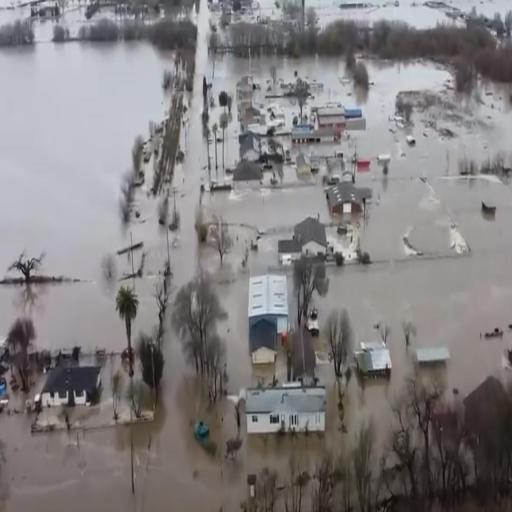flood: (0, 1, 512, 510), (393, 177, 512, 395), (238, 365, 403, 500), (306, 0, 512, 27), (464, 81, 512, 160), (59, 0, 90, 34), (0, 0, 30, 24), (253, 0, 283, 18), (32, 18, 55, 40), (92, 4, 115, 19)
house: (461, 376, 510, 497), (244, 380, 328, 441), (38, 366, 105, 405), (276, 216, 330, 263), (248, 273, 290, 333), (327, 180, 369, 222), (358, 328, 392, 379), (313, 106, 363, 137), (248, 316, 276, 364), (291, 125, 321, 147), (240, 132, 260, 162)
